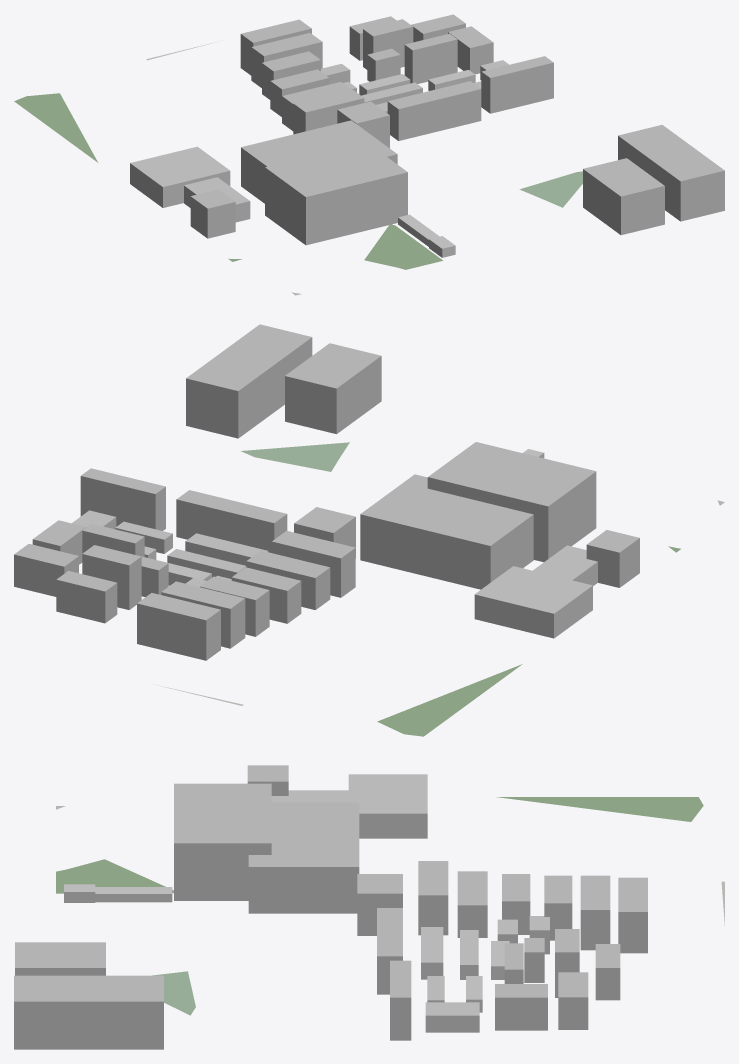
The model's file is 136_104_mid.glb.
The picture shows the model from 3 angles, top to bottom: view 1: azimuth 30°, elevation 25°; view 2: azimuth 150°, elevation 25°; view 3: azimuth 270°, elevation 25°; orthographic projection. The views are drawn at different scales.
Bounding box in the file's own units: 439 × 49.92 × 531.
